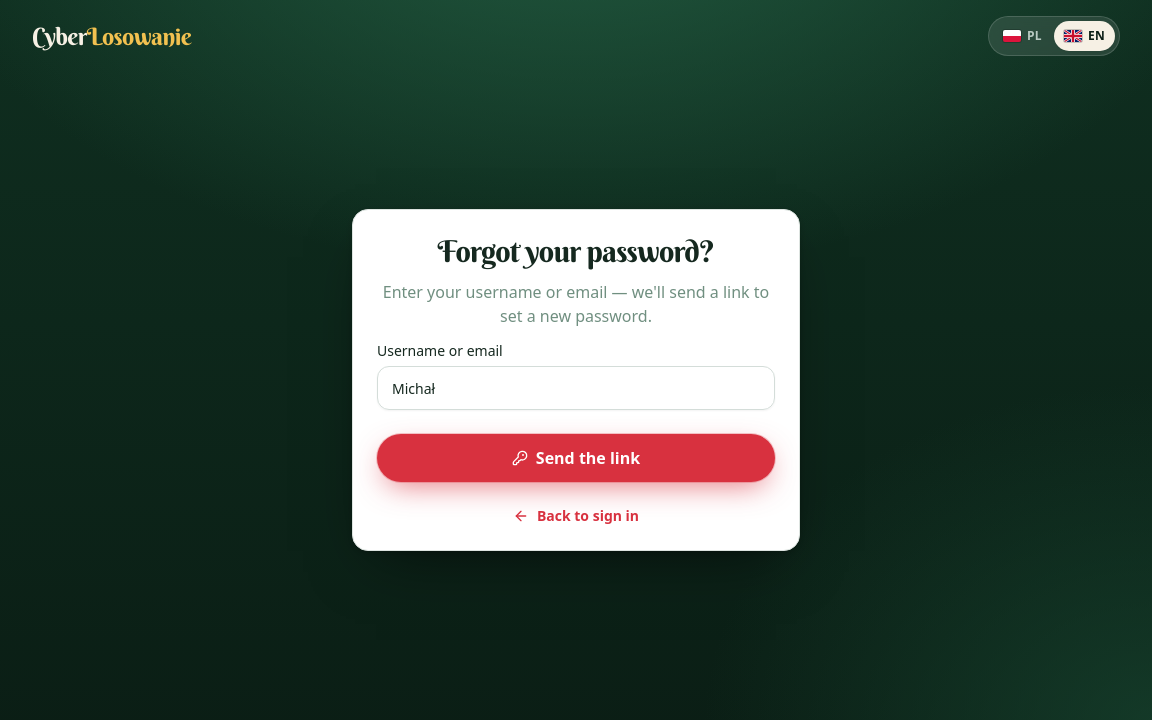
it: ForgotPassword › prefills the login from the link and shows a neutral confirmation
The width and height of the screenshot is (1152, 720).
expect the field labelled "Username or email" holds "Michał": met, box left=377, top=366, right=775, bottom=410
Step 1. Click the button "Send the link" → {"x": 576, "y": 458}, box left=377, top=434, right=775, bottom=482
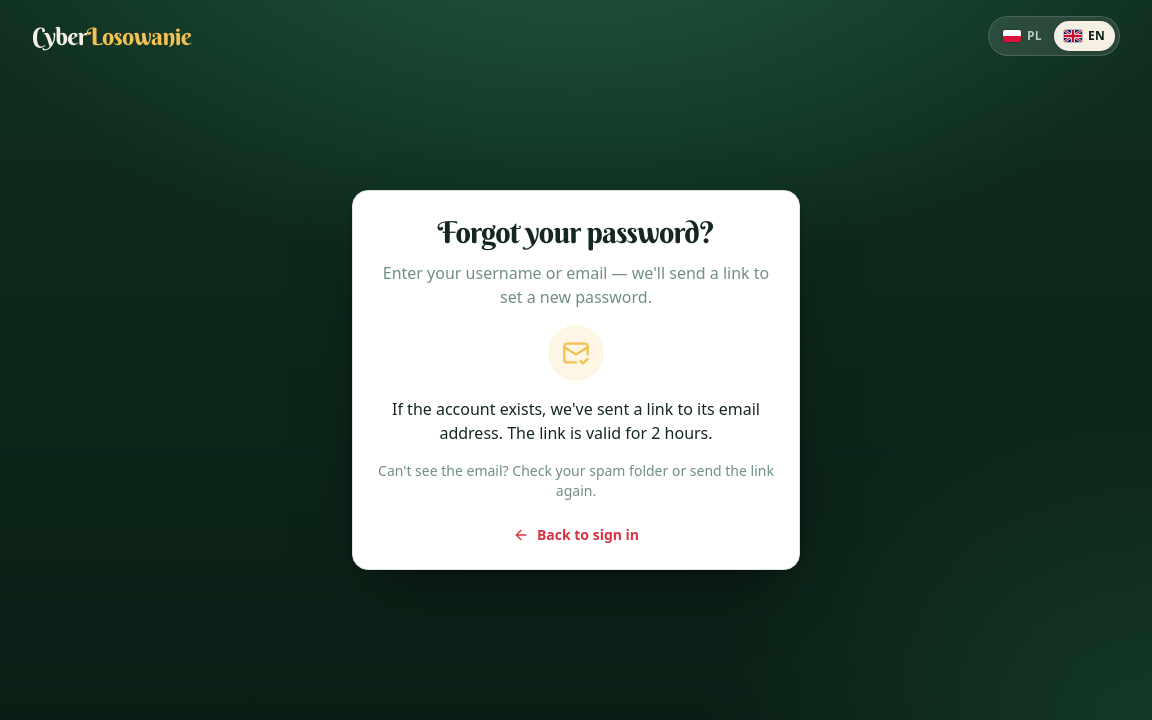
expect the message shows "If the account exists": met, box left=392, top=398, right=760, bottom=444
